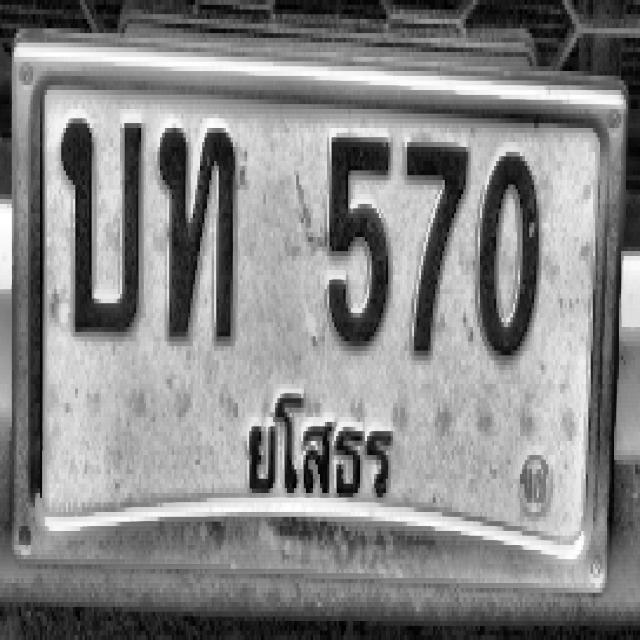license-plate: (16, 36, 611, 598)
